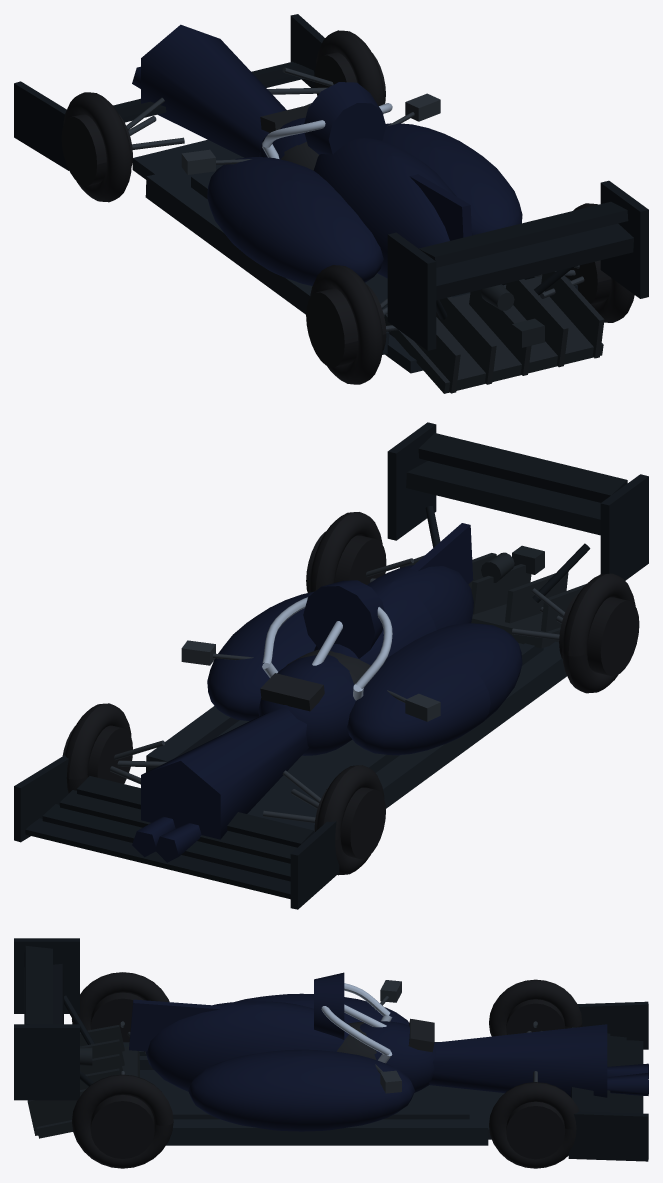
The model's file is eds-g01.glb.
3 renders of one model, top to bottom at view 1: azimuth 30°, elevation 25°; view 2: azimuth 150°, elevation 25°; view 3: azimuth 270°, elevation 25°, orthographic. The views are drawn at different scales.
Visible parts, largest first — view 1: EDS_004_Bodywork_Sidepods, EDS_005_Wings_Assembly, EDS_006_Wheels_Tires, EDS_009_Diffuser_RainLight, EDS_007_Monocoque_Nose, EDS_001_Floor_Underfloor, EDS_003_Suspension_Mirrors, EDS_002_Cockpit_Interior, EDS_008_Halo_Structure; view 2: EDS_005_Wings_Assembly, EDS_004_Bodywork_Sidepods, EDS_006_Wheels_Tires, EDS_007_Monocoque_Nose, EDS_001_Floor_Underfloor, EDS_009_Diffuser_RainLight, EDS_003_Suspension_Mirrors, EDS_008_Halo_Structure, EDS_002_Cockpit_Interior; view 3: EDS_004_Bodywork_Sidepods, EDS_006_Wheels_Tires, EDS_005_Wings_Assembly, EDS_007_Monocoque_Nose, EDS_001_Floor_Underfloor, EDS_009_Diffuser_RainLight, EDS_008_Halo_Structure, EDS_002_Cockpit_Interior, EDS_003_Suspension_Mirrors.
Boxes of the visible parts, x1=… form: EDS_004_Bodywork_Sidepods: x1=207, y1=82, x2=522, y2=285; EDS_005_Wings_Assembly: x1=14, y1=14, x2=648, y2=350; EDS_006_Wheels_Tires: x1=61, y1=30, x2=634, y2=384; EDS_009_Diffuser_RainLight: x1=384, y1=271, x2=604, y2=393; EDS_007_Monocoque_Nose: x1=132, y1=24, x2=306, y2=159; EDS_001_Floor_Underfloor: x1=132, y1=139, x2=577, y2=373; EDS_003_Suspension_Mirrors: x1=126, y1=67, x2=584, y2=331; EDS_002_Cockpit_Interior: x1=260, y1=105, x2=318, y2=170; EDS_008_Halo_Structure: x1=262, y1=103, x2=392, y2=158; EDS_005_Wings_Assembly: x1=14, y1=422, x2=648, y2=909; EDS_004_Bodywork_Sidepods: x1=207, y1=523, x2=522, y2=755; EDS_006_Wheels_Tires: x1=62, y1=512, x2=639, y2=875; EDS_007_Monocoque_Nose: x1=132, y1=655, x2=355, y2=862; EDS_001_Floor_Underfloor: x1=146, y1=641, x2=566, y2=832; EDS_009_Diffuser_RainLight: x1=400, y1=545, x2=586, y2=648; EDS_003_Suspension_Mirrors: x1=110, y1=558, x2=564, y2=822; EDS_008_Halo_Structure: x1=262, y1=597, x2=392, y2=700; EDS_002_Cockpit_Interior: x1=260, y1=649, x2=370, y2=711; EDS_004_Bodywork_Sidepods: x1=129, y1=972, x2=414, y2=1131; EDS_006_Wheels_Tires: x1=72, y1=972, x2=582, y2=1168; EDS_005_Wings_Assembly: x1=14, y1=938, x2=648, y2=1161; EDS_007_Monocoque_Nose: x1=360, y1=1021, x2=648, y2=1097; EDS_001_Floor_Underfloor: x1=123, y1=1042, x2=504, y2=1145; EDS_009_Diffuser_RainLight: x1=27, y1=1025, x2=139, y2=1138; EDS_008_Halo_Structure: x1=321, y1=983, x2=392, y2=1063; EDS_002_Cockpit_Interior: x1=337, y1=1018, x2=434, y2=1059; EDS_003_Suspension_Mirrors: x1=120, y1=980, x2=542, y2=1093.
Bounding box in the file's own units: 2.05 × 1.13 × 4.61.
